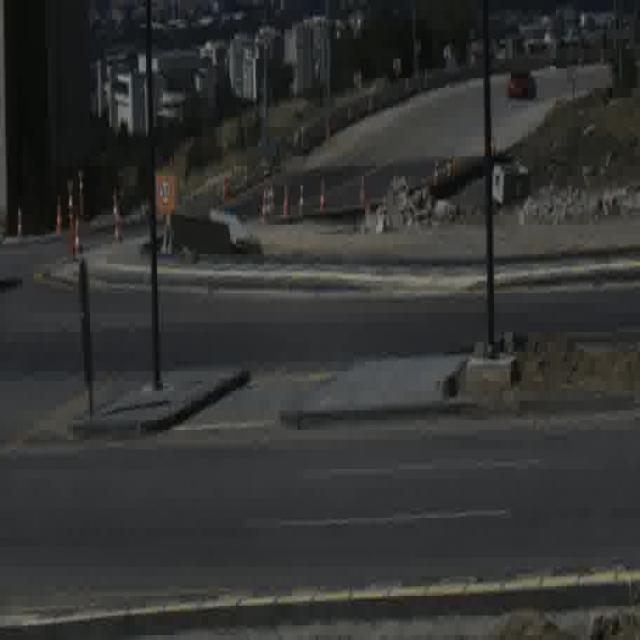Car: (508, 69, 538, 102)
